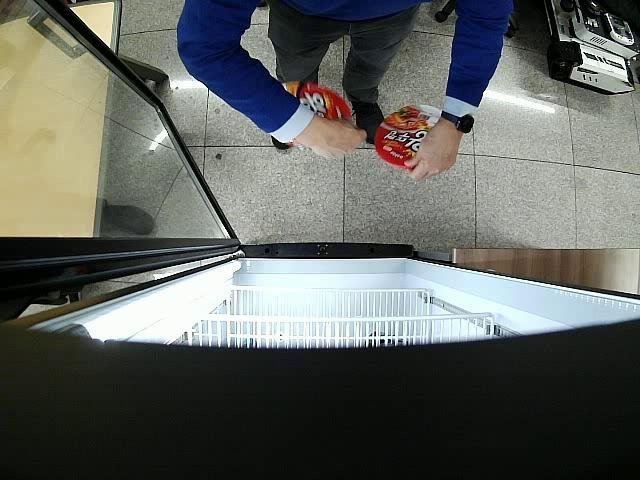10_wangTtukkeong: (375, 103, 442, 170), (282, 82, 352, 124)
